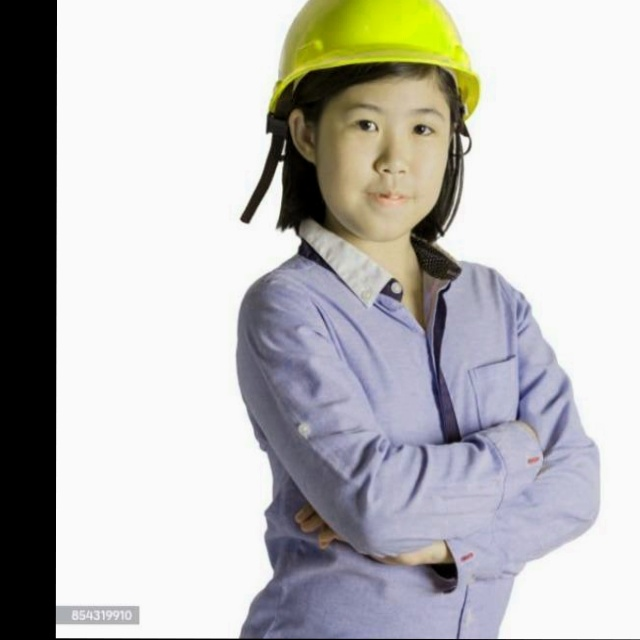Con_Casco: (269, 0, 480, 245)
Sin_Chaleco: (241, 254, 537, 639)
